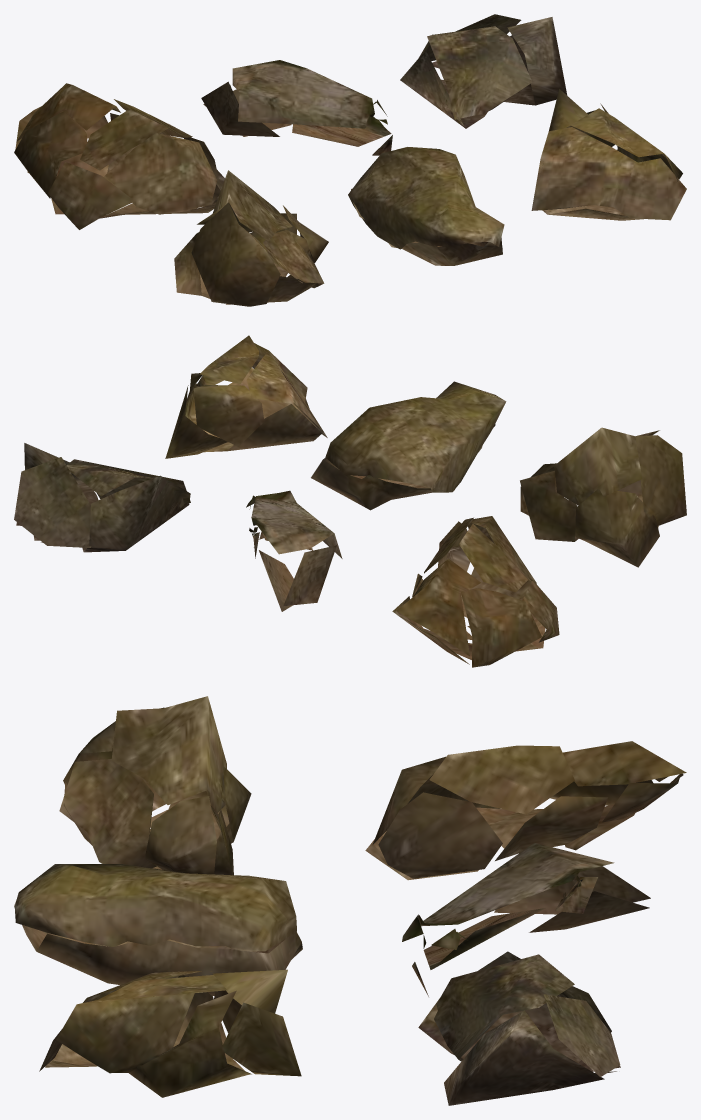
The model's file is rock_moss_set_01.glb.
3 views of the same model, one above another, from view 1: azimuth 30°, elevation 25°; view 2: azimuth 150°, elevation 25°; view 3: azimuth 270°, elevation 25° (orthographic). The views are drawn at different scales.
Parts seen in each view (by area): view 1: rock_moss_set_01_rock01; view 2: rock_moss_set_01_rock01; view 3: rock_moss_set_01_rock01.
Boxes of the visible parts, x1,y1,x2,y2 form: rock_moss_set_01_rock01: (14, 14, 686, 306); rock_moss_set_01_rock01: (14, 335, 686, 667); rock_moss_set_01_rock01: (14, 696, 686, 1105).
Bounding box in the file's own units: 7.94 × 1.78 × 6.89.
1 material, 1 textured.
